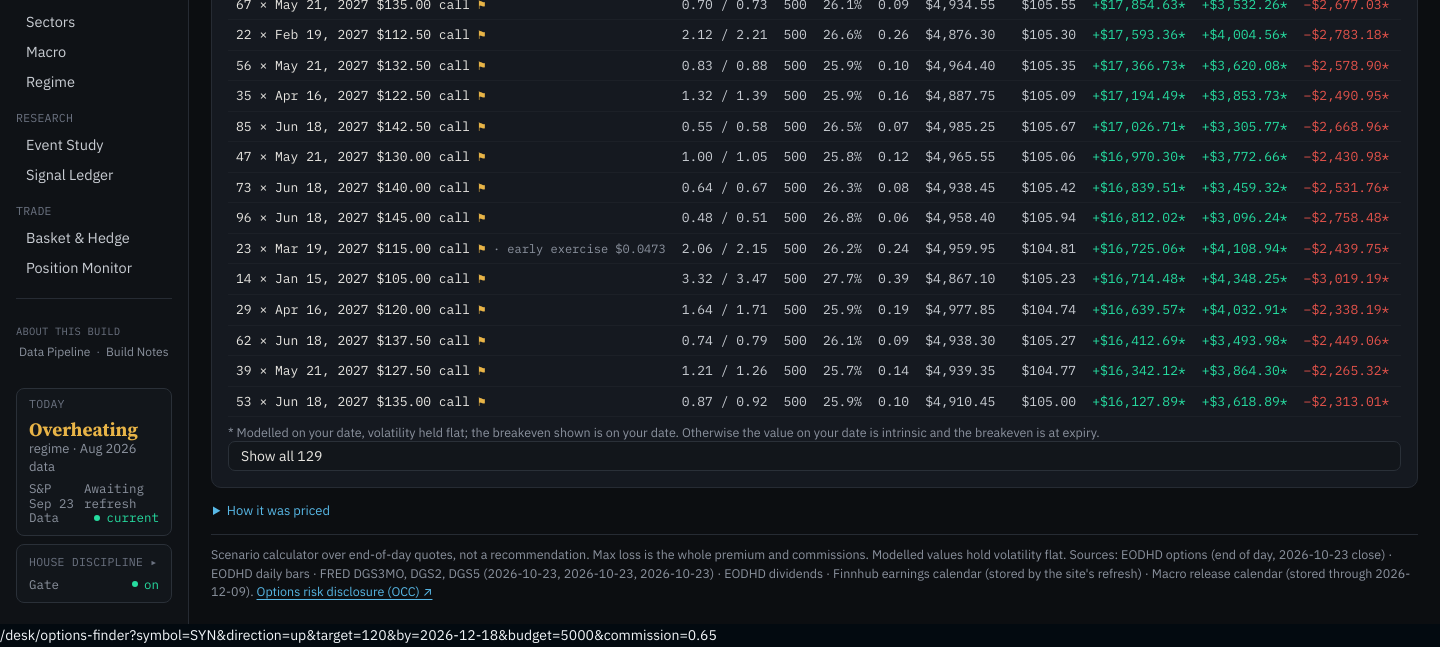
Options Finder: the answer › never reads unknown earnings as none: the flag on every modelled row, and the empty events line says unknown (design A-3)
The image size is (1440, 647).
(page scrolled)
Click the button with test id "of-all": (269, 456) [228,441,1401,471]
(page scrolled)
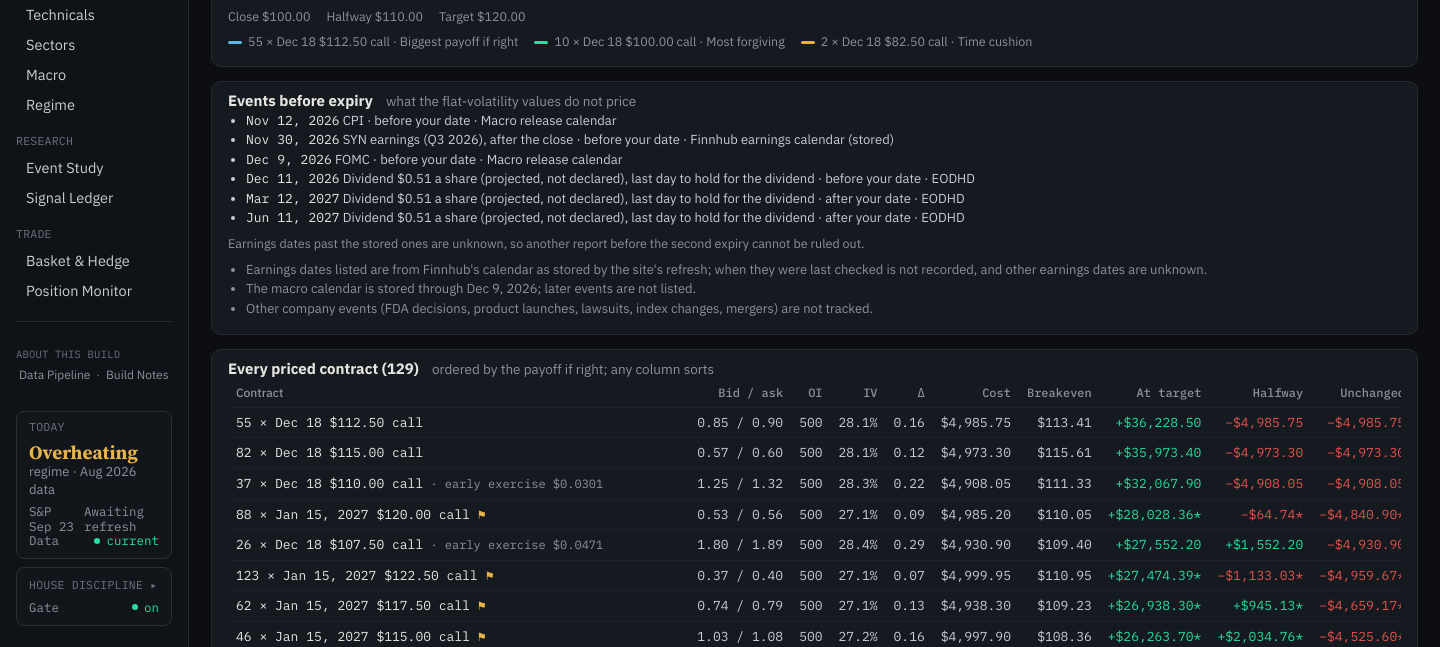
Expected: the text "Earnings dates past the stored ones are unknown" is shown, [228,234,864,250]
Now the number of elements titled "Earnings dates are unknown for this name, so a report before your date is not ruled out" is 114
